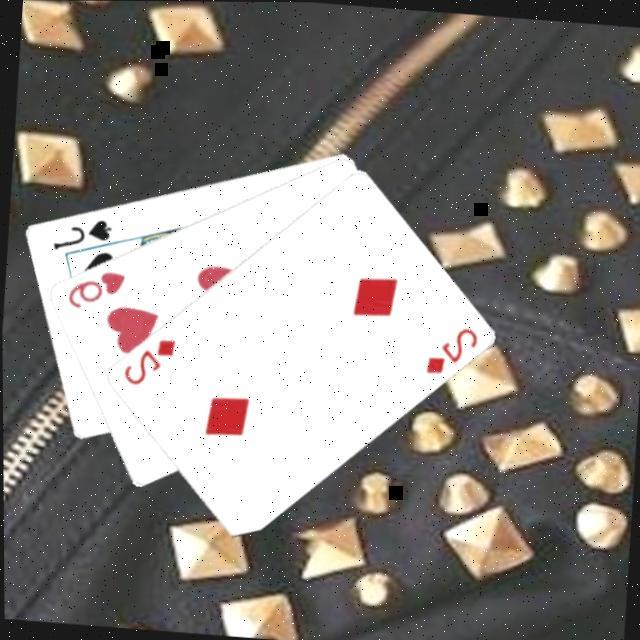2D: (119, 330, 179, 390), (421, 318, 481, 377)
6H: (63, 262, 129, 312)
JS: (49, 210, 116, 254)
